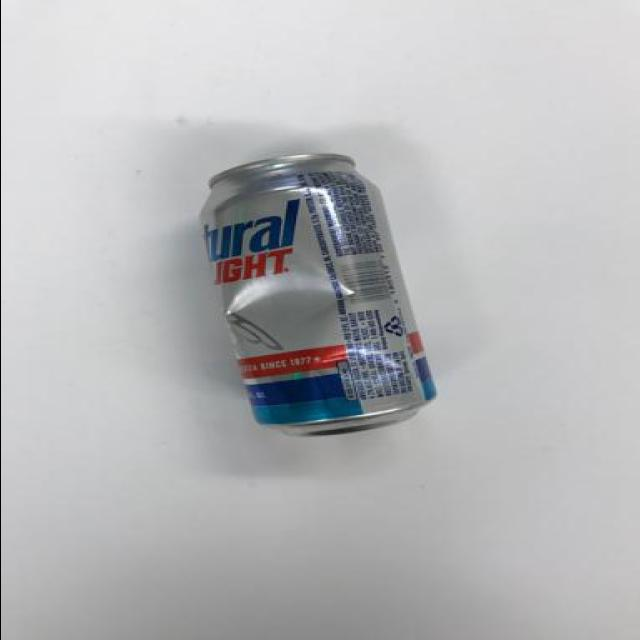Aluminum Can: (162, 120, 470, 461)
